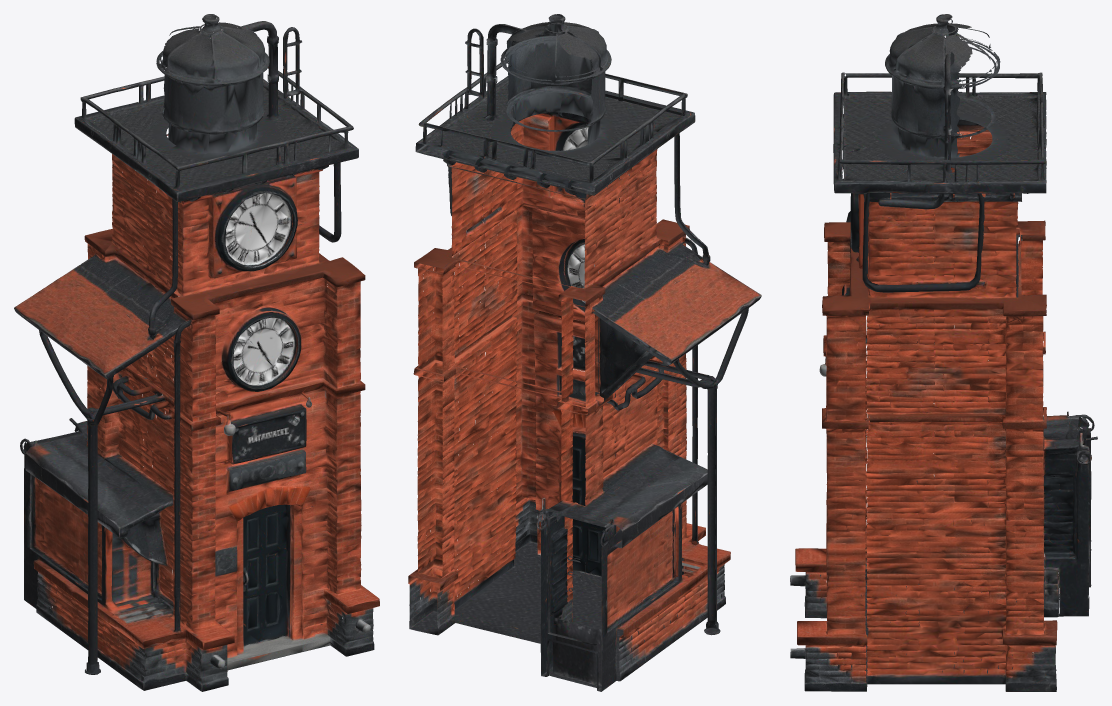
Rendered from rail_tower.glb.
3 views of the same model, side by side, from view 1: azimuth 30°, elevation 25°; view 2: azimuth 150°, elevation 25°; view 3: azimuth 270°, elevation 25° (orthographic). The views are drawn at different scales.
Size of the model in its own units: 0.8372 by 1.9 by 0.847.
1 material, 1 textured.
